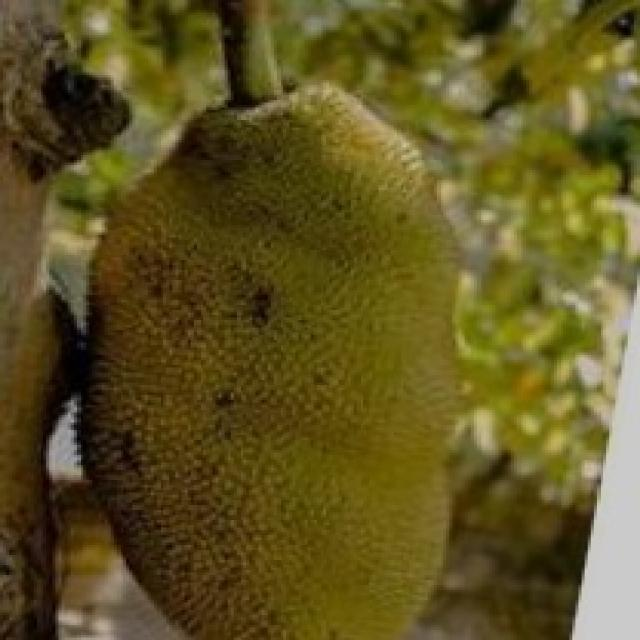Fruit: (114, 30, 514, 400)
